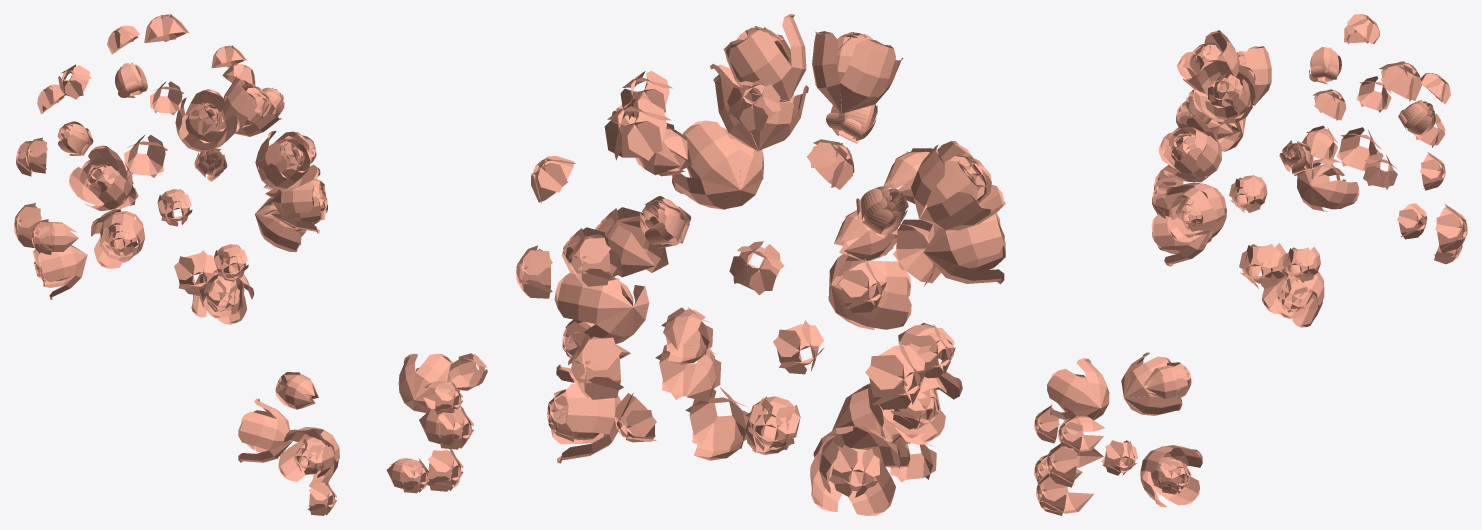
Rendered from 02_openskp_material_69.004.obj.
The picture shows the model from 3 angles, left to right: view 1: azimuth 30°, elevation 25°; view 2: azimuth 150°, elevation 25°; view 3: azimuth 270°, elevation 25°; orthographic projection. The views are drawn at different scales.
Parts seen in each view (by area): view 1: 02_openskp_material_69.004; view 2: 02_openskp_material_69.004; view 3: 02_openskp_material_69.004.
Part boxes in pixels (box(x1,y1,x2,y2)): 02_openskp_material_69.004: box(14, 14, 487, 515); 02_openskp_material_69.004: box(516, 14, 1005, 515); 02_openskp_material_69.004: box(1034, 14, 1467, 515).
Bounding box in the file's own units: 17.95 × 19.17 × 18.37.
